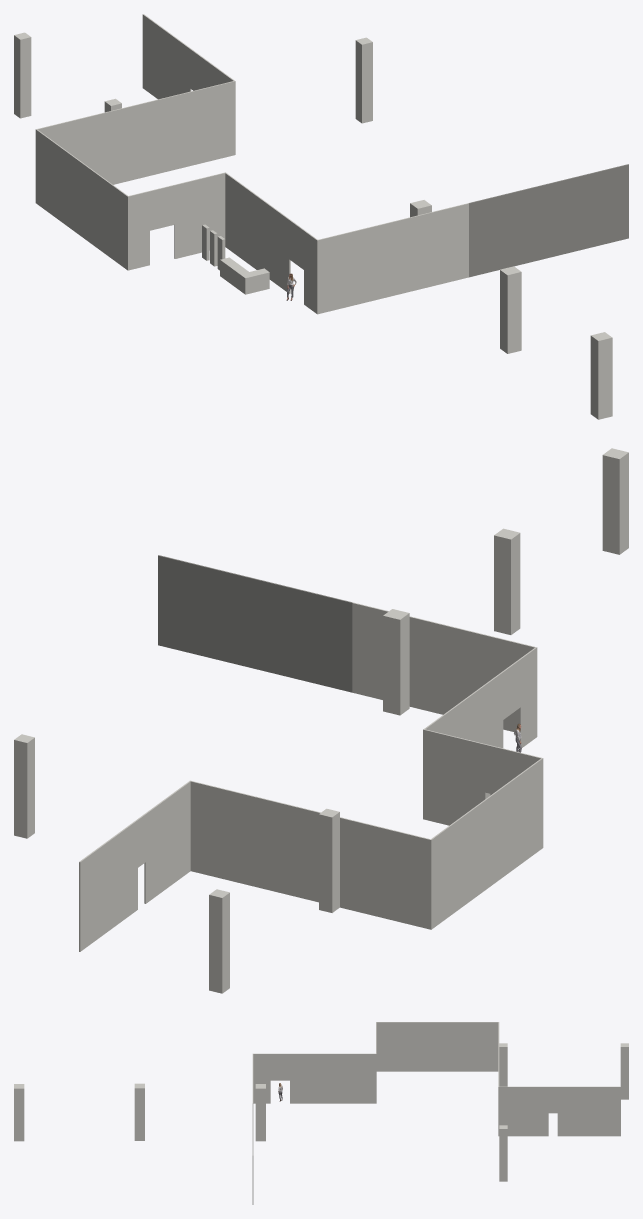
File: fachadamono.glb
The picture shows the model from 3 angles, top to bottom: view 1: azimuth 30°, elevation 25°; view 2: azimuth 150°, elevation 25°; view 3: azimuth 270°, elevation 25°; orthographic projection. The views are drawn at different scales.
Parts seen in each view (by area): view 1: Cube.009, Cube.008, Cube.007, Cube.001, Cube, Cube.003, Cube.005, Cube.006; view 2: Cube.009, Cube.008, Cube.007, Cube.002, Cube, Cube.001, Cube.003, Cube.004, Cube.005; view 3: Cube.009, Cube, Cube.001, Cube.002, Cube.005, Cube.003, Cube.004.
Part boxes in pixels (x1,y1,x2,y2): Cube.009: (35, 14, 318, 314); Cube.008: (469, 164, 628, 277); Cube.007: (318, 203, 468, 313); Cube.001: (590, 332, 612, 419); Cube: (500, 266, 521, 353); Cube.003: (14, 32, 31, 118); Cube.005: (355, 37, 372, 123); Cube.006: (220, 257, 269, 294); Cube.009: (79, 647, 543, 951); Cube.008: (158, 555, 352, 692); Cube.007: (352, 602, 535, 731); Cube.002: (383, 609, 409, 715); Cube: (494, 528, 520, 634); Cube.001: (602, 448, 628, 554); Cube.003: (209, 889, 229, 993); Cube.004: (319, 808, 339, 912); Cube.005: (14, 734, 34, 838); Cube.009: (253, 1022, 620, 1136); Cube: (134, 1083, 144, 1140); Cube.001: (14, 1084, 24, 1141); Cube.002: (255, 1084, 265, 1141); Cube.005: (499, 1125, 507, 1181); Cube.003: (620, 1043, 628, 1099); Cube.004: (499, 1043, 507, 1086).
Size of the model in its own units: 26.07 by 4.81 by 50.75.
Materials: 3 (1 with a texture image).
